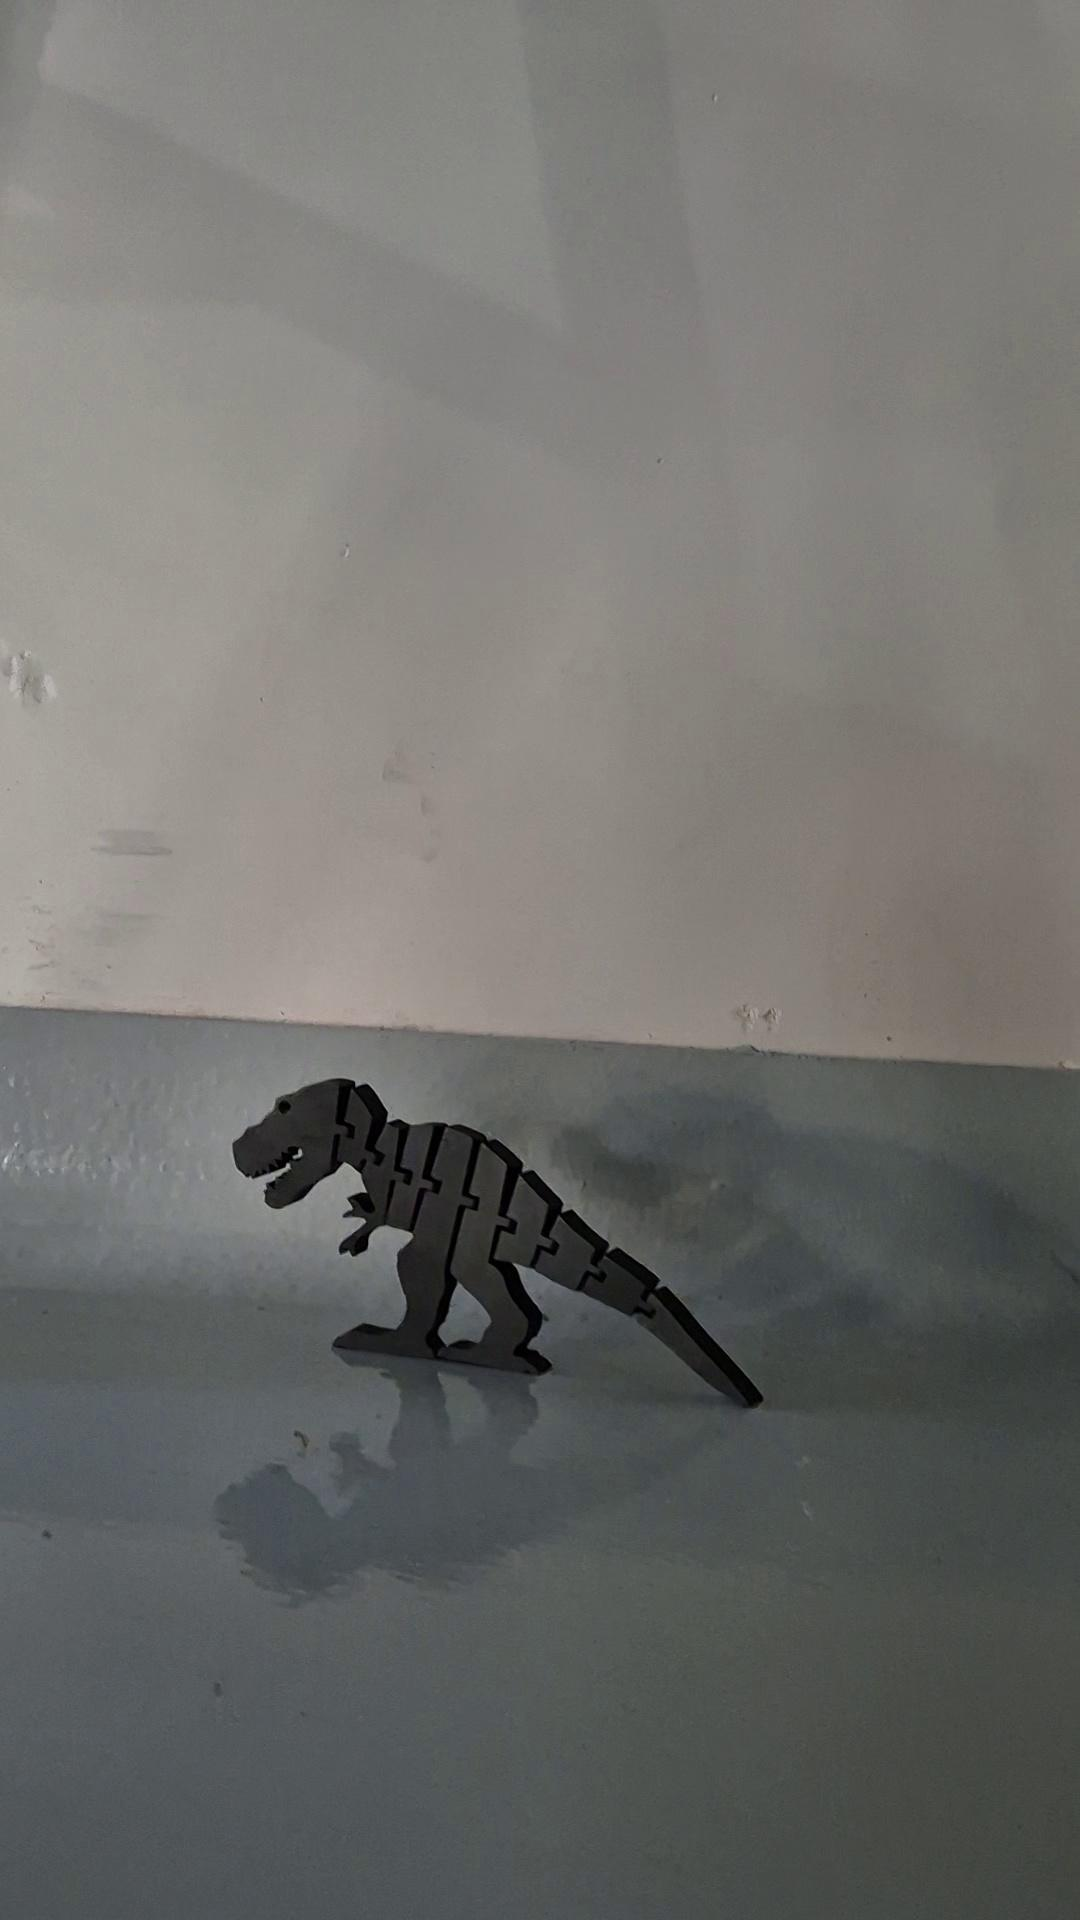dinosaur: (228, 1076, 766, 1412)
